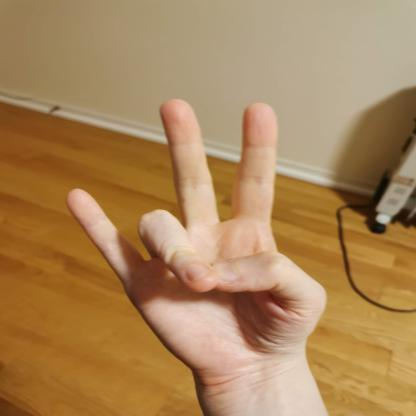seven: (62, 88, 335, 370)
